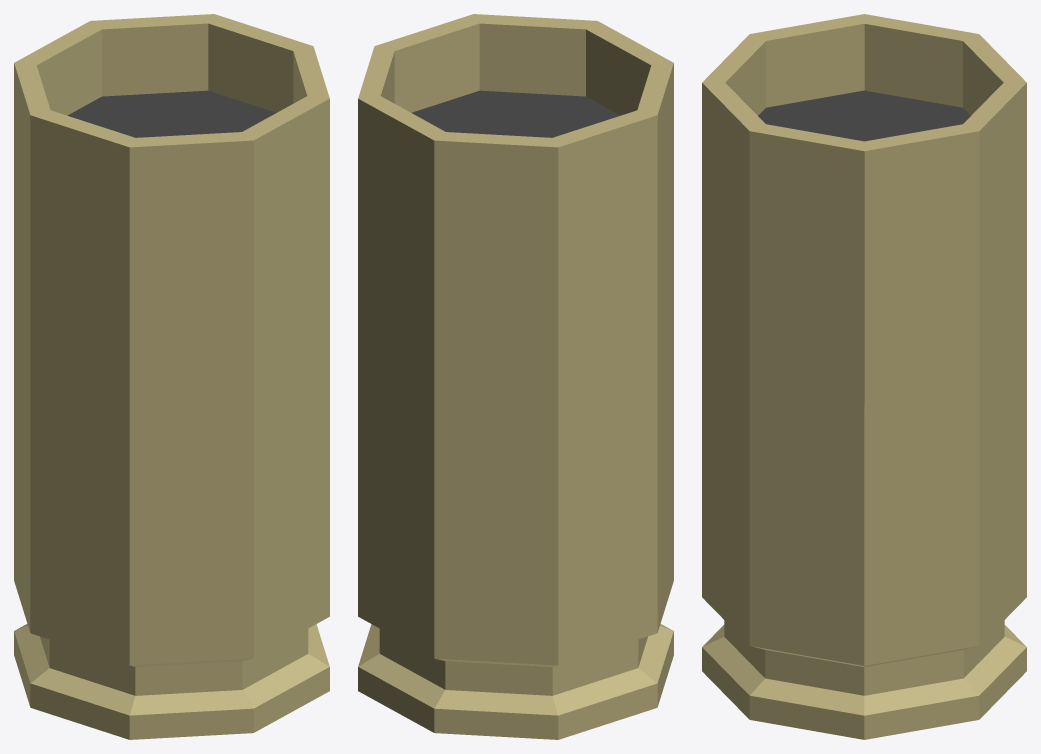
The model's file is CRTE-9mm.fbx.
3 renders of one model, left to right at view 1: azimuth 30°, elevation 25°; view 2: azimuth 150°, elevation 25°; view 3: azimuth 270°, elevation 25°, orthographic.
Visible parts, largest first — view 1: Cylinder.029; view 2: Cylinder.029; view 3: Cylinder.029.
Boxes of the visible parts, box(x1,y1,x2,y2) form: Cylinder.029: box(14, 14, 329, 739); Cylinder.029: box(358, 14, 673, 739); Cylinder.029: box(702, 14, 1026, 739).
Bounding box in the file's own units: 25.74 × 51.48 × 25.74.
